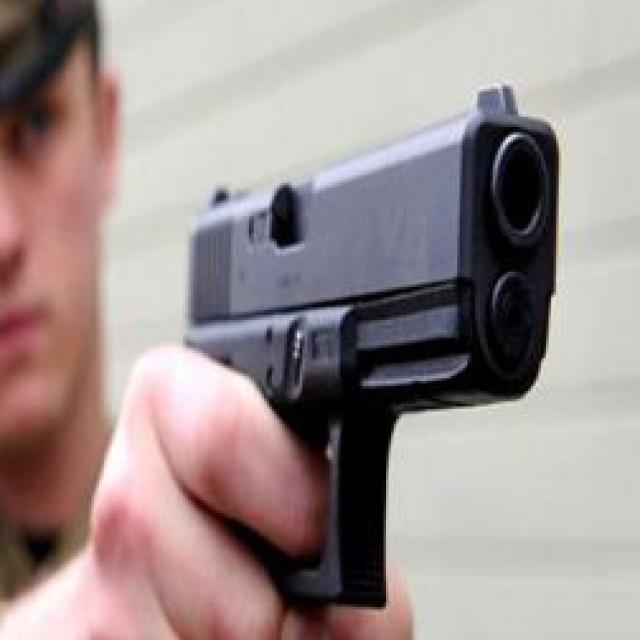pistol: (165, 76, 568, 627)
